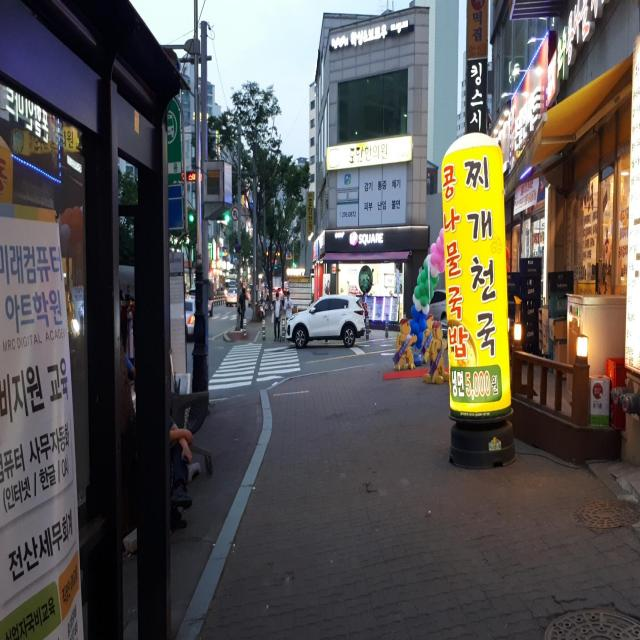횡단보도: (208, 341, 301, 391)
